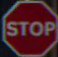Stop: (5, 3, 54, 49)
